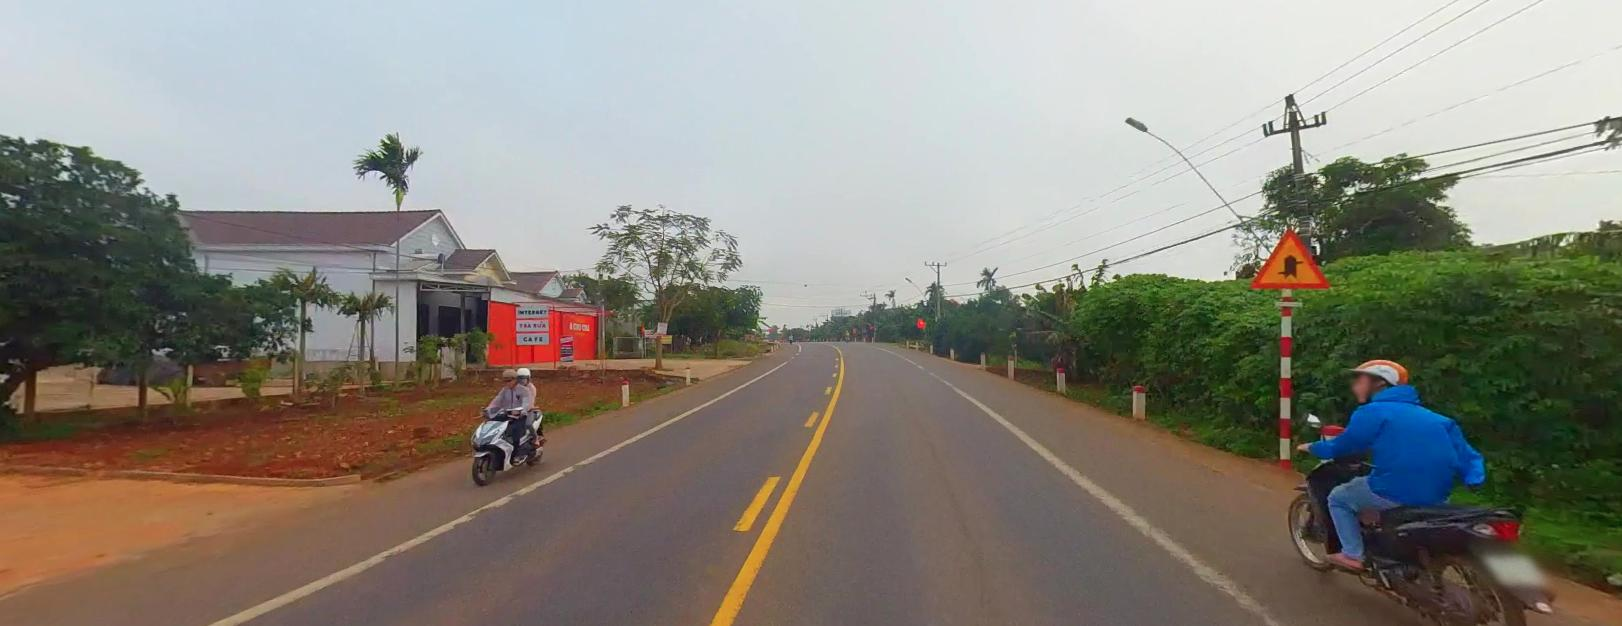Nguy hiem: (1251, 227, 1327, 288), (1251, 227, 1328, 287)
